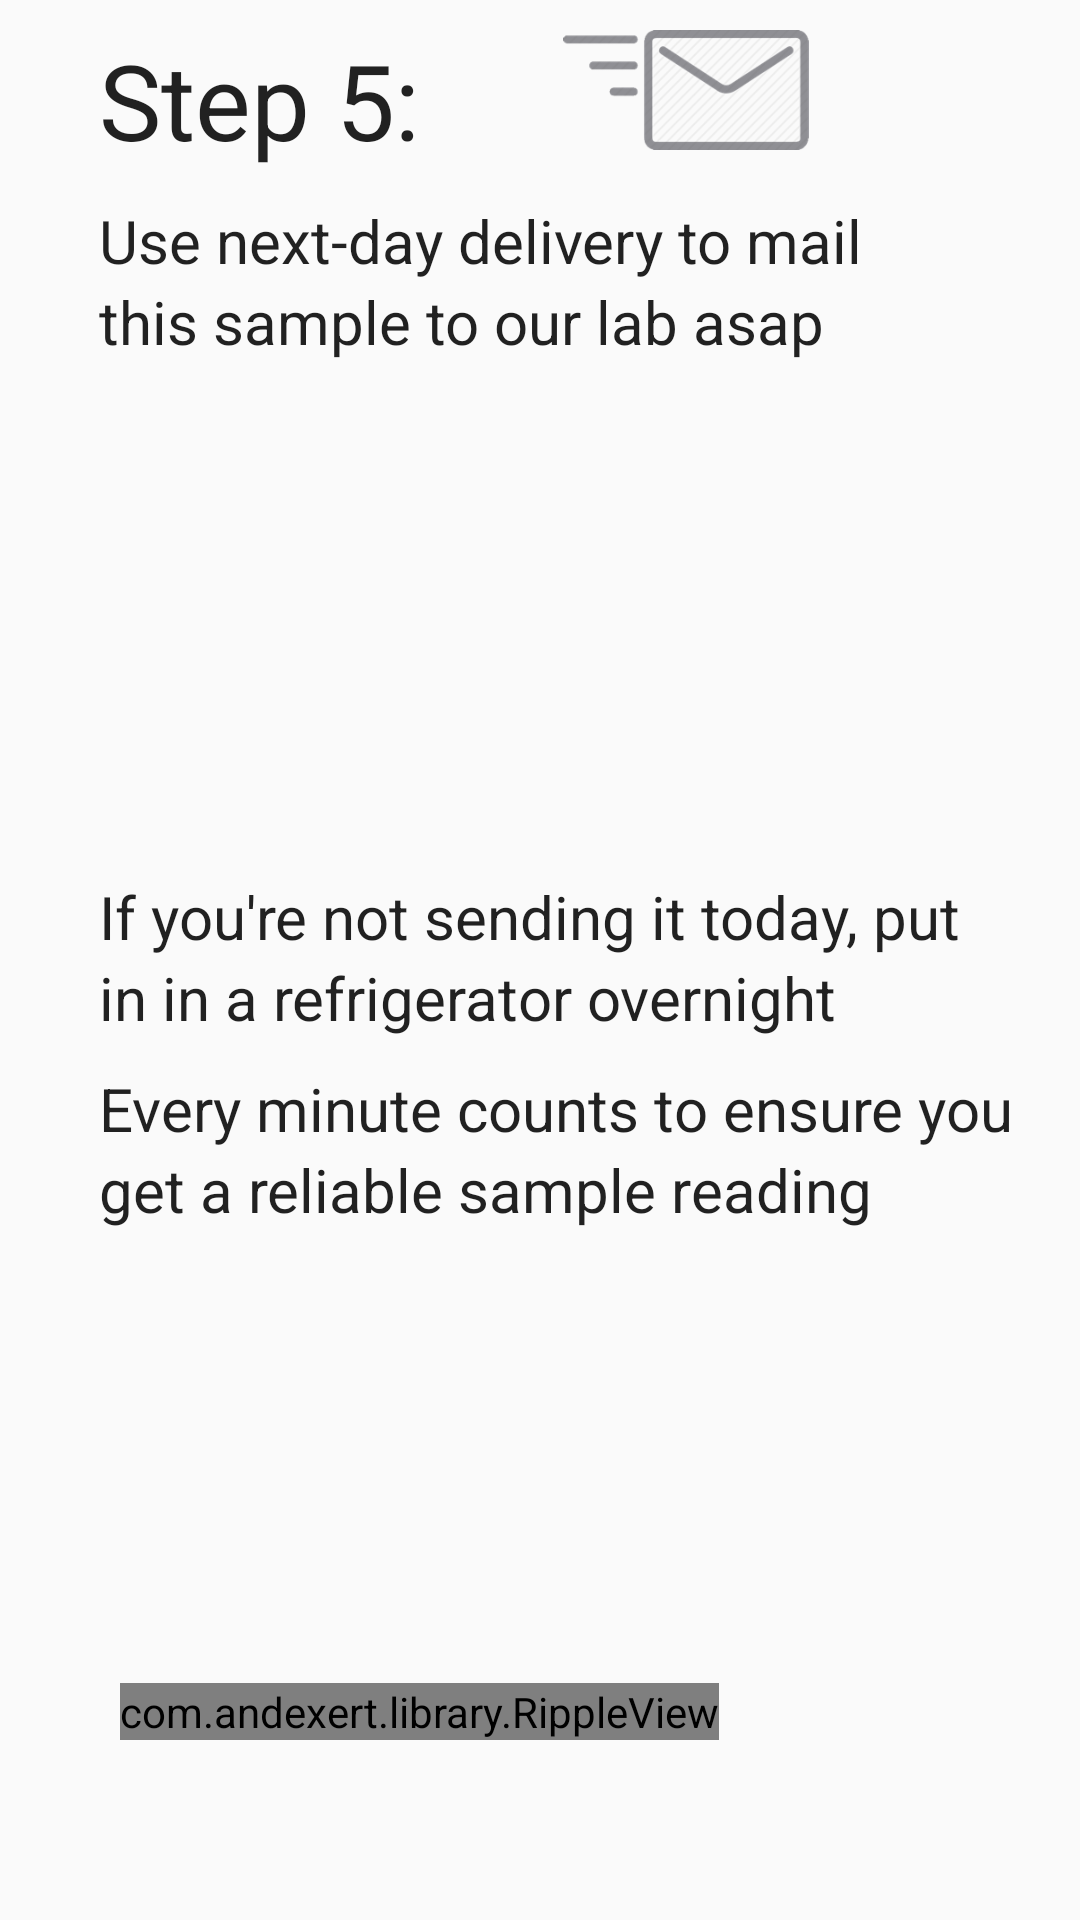

Where icons sit on this 1080px x 1920px app screen, as (x1=x1, y1=y1, x2=x2, y2=y2):
send mail: (x1=563, y1=30, x2=809, y2=150)
